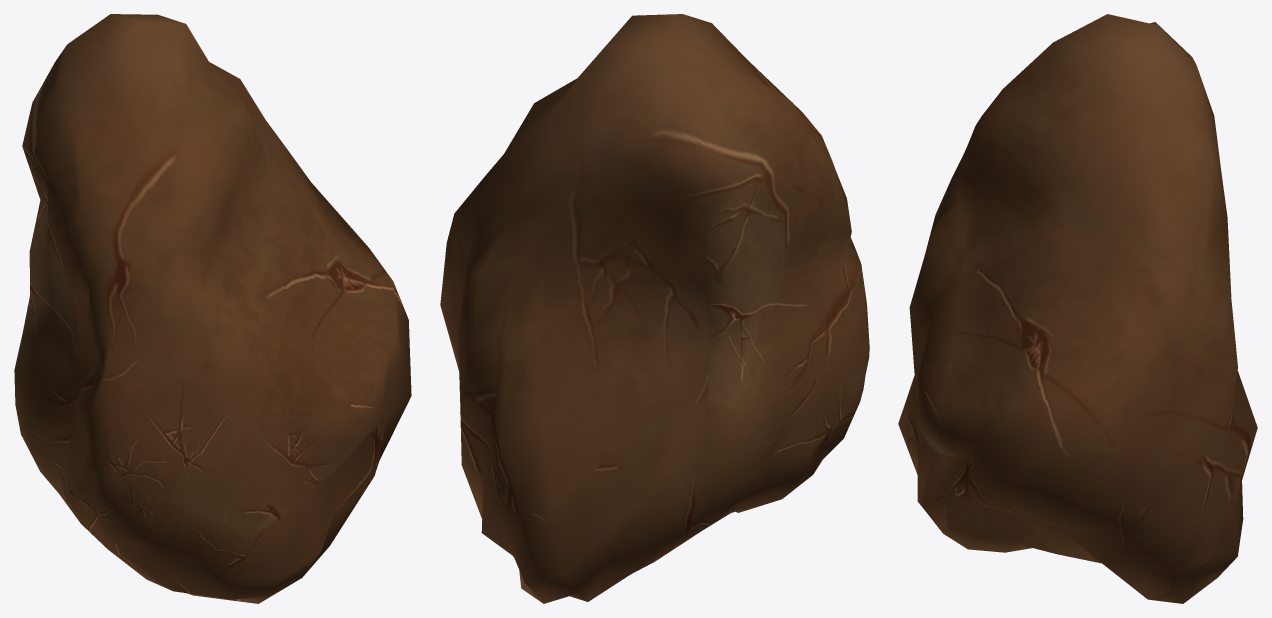
The model's file is CA_OPE_Props_Caverna_Pedra_Grande_005.fbx.
The picture shows the model from 3 angles, left to right: view 1: azimuth 30°, elevation 25°; view 2: azimuth 150°, elevation 25°; view 3: azimuth 270°, elevation 25°; orthographic projection. The views are drawn at different scales.
Parts seen in each view (by area): view 1: CA_OPE_Props_Caverna_Pedra_Grande_005; view 2: CA_OPE_Props_Caverna_Pedra_Grande_005; view 3: CA_OPE_Props_Caverna_Pedra_Grande_005.
Part boxes in pixels (box(x1,y1,x2,y2)): CA_OPE_Props_Caverna_Pedra_Grande_005: box(14, 14, 411, 603); CA_OPE_Props_Caverna_Pedra_Grande_005: box(440, 14, 869, 603); CA_OPE_Props_Caverna_Pedra_Grande_005: box(898, 14, 1257, 603).
Bounding box in the file's own units: 17.06 × 26.1 × 15.72.
